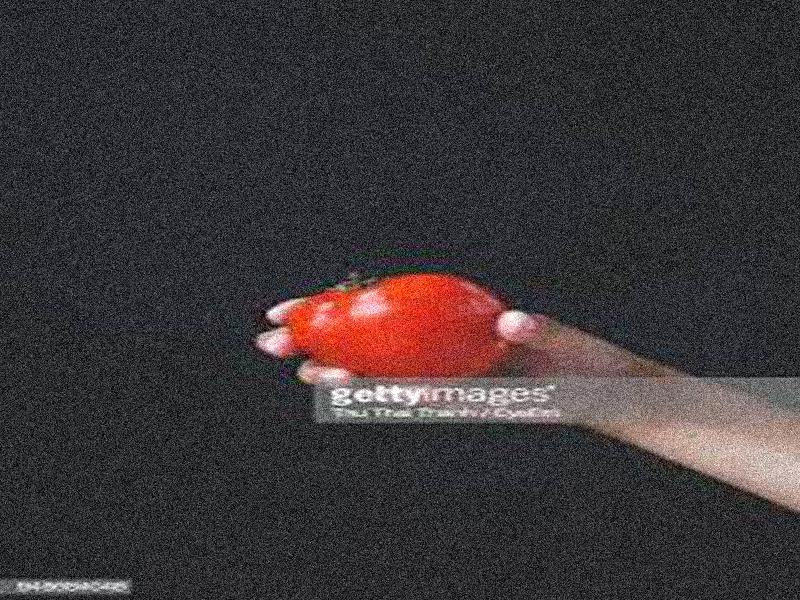Tomato: (280, 273, 503, 382)
